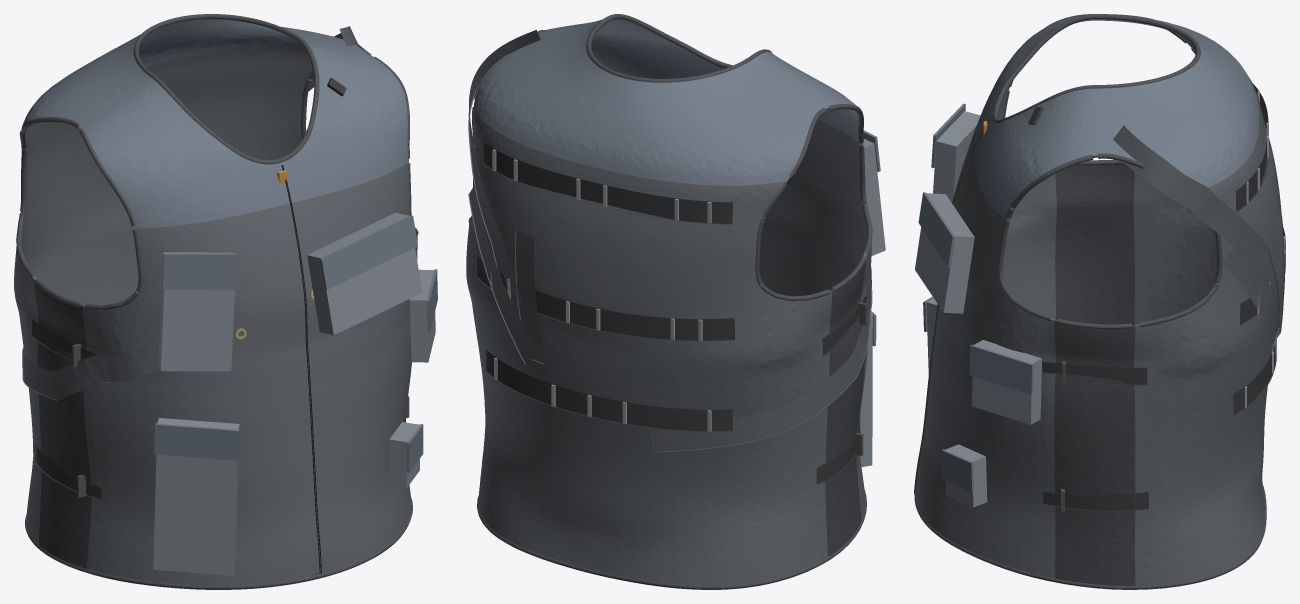
Rendered from vest.glb.
3 views of the same model, side by side, from view 1: azimuth 30°, elevation 25°; view 2: azimuth 150°, elevation 25°; view 3: azimuth 270°, elevation 25° (orthographic). The views are drawn at different scales.
Visible parts, largest first — view 1: vest_FRONT_R, vest_FRONT_L, vest_BACK_C, vest_YOKE_FR, vest_YOKE_FL, vest_YOKE_B, pocket_phone, vest_SIDE_R, pocket_C_board, pocket_chest_pod, tunnel_J6_back_to_chest, vest_BACK_SR (+18 smaller); view 2: vest_BACK_C, vest_YOKE_B, vest_BACK_SR, vest_FRONT_R, vest_SIDE_R, tunnel_J6_back_to_chest, webbing_row_C, webbing_row_A, vest_YOKE_FL, webbing_row_B, vest_BACK_SL, tunnel_ref2 (+12 smaller); view 3: vest_FRONT_L, vest_BACK_SL, vest_SIDE_L, vest_YOKE_B, vest_SIDE_R, vest_BACK_C, vest_BACK_SR, vest_YOKE_FL, vest_FRONT_R, tunnel_ref2, pocket_C_board, pocket_A_heartbit (+20 smaller).
Part boxes in pixels (box(x1,y1,x2,y2)): vest_FRONT_R: box(83, 204, 317, 585); vest_FRONT_L: box(288, 162, 417, 574); vest_BACK_C: box(26, 48, 287, 305); vest_YOKE_FR: box(80, 77, 287, 228); vest_YOKE_FL: box(279, 41, 408, 203); vest_YOKE_B: box(22, 19, 372, 128); pocket_phone: box(153, 418, 239, 575); vest_SIDE_R: box(34, 280, 91, 568); pocket_C_board: box(307, 212, 422, 335); pocket_chest_pod: box(158, 252, 234, 371); tunnel_J6_back_to_chest: box(22, 340, 160, 400); vest_BACK_SR: box(14, 124, 41, 544); vest_BACK_C: box(475, 124, 741, 585); vest_YOKE_B: box(474, 21, 826, 185); vest_BACK_SR: box(734, 181, 831, 584); vest_FRONT_R: box(759, 120, 871, 520); vest_SIDE_R: box(825, 257, 865, 556); tunnel_J6_back_to_chest: box(650, 267, 872, 452); webbing_row_C: box(485, 349, 732, 431); webbing_row_A: box(482, 141, 732, 224); vest_YOKE_FL: box(538, 19, 724, 78); webbing_row_B: box(475, 255, 734, 341); vest_BACK_SL: box(466, 105, 497, 522); tunnel_ref2: box(468, 30, 546, 361); vest_FRONT_L: box(915, 152, 1056, 578); vest_BACK_SL: box(1133, 178, 1235, 586); vest_SIDE_L: box(1054, 319, 1135, 586); vest_YOKE_B: box(1095, 17, 1258, 187); vest_SIDE_R: box(1055, 164, 1134, 324); vest_BACK_C: box(1220, 96, 1280, 568); vest_BACK_SR: box(1133, 46, 1216, 324); vest_YOKE_FL: box(974, 88, 1095, 219); vest_FRONT_R: box(915, 89, 1056, 492); tunnel_ref2: box(1113, 125, 1279, 311); pocket_C_board: box(915, 193, 974, 313); pocket_A_heartbit: box(972, 340, 1041, 424).
Bounding box in the file's own units: 0.4299 × 0.5507 × 0.3992.
